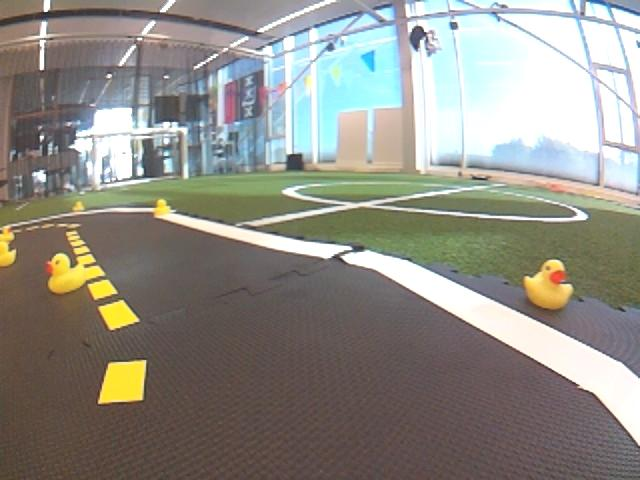Duckies: (521, 260, 571, 312), (46, 252, 89, 293), (0, 242, 16, 266), (154, 199, 171, 215), (0, 226, 13, 242), (73, 202, 85, 210)
